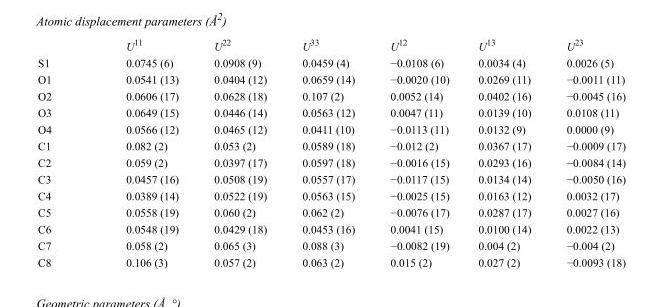table: (37, 36, 624, 268)
table column: (88, 36, 195, 268), (371, 36, 463, 268), (195, 36, 283, 268), (283, 36, 371, 268), (463, 36, 548, 268), (548, 36, 624, 268), (37, 36, 88, 268)
table column header: (37, 36, 624, 54)
table row: (37, 36, 624, 54), (37, 70, 624, 87), (37, 103, 624, 120), (37, 120, 624, 137), (37, 153, 624, 170), (37, 170, 624, 187), (37, 203, 624, 220), (37, 236, 624, 253), (37, 54, 624, 70), (37, 87, 624, 103), (37, 137, 624, 153), (37, 187, 624, 203), (37, 220, 624, 236), (37, 253, 624, 268)
